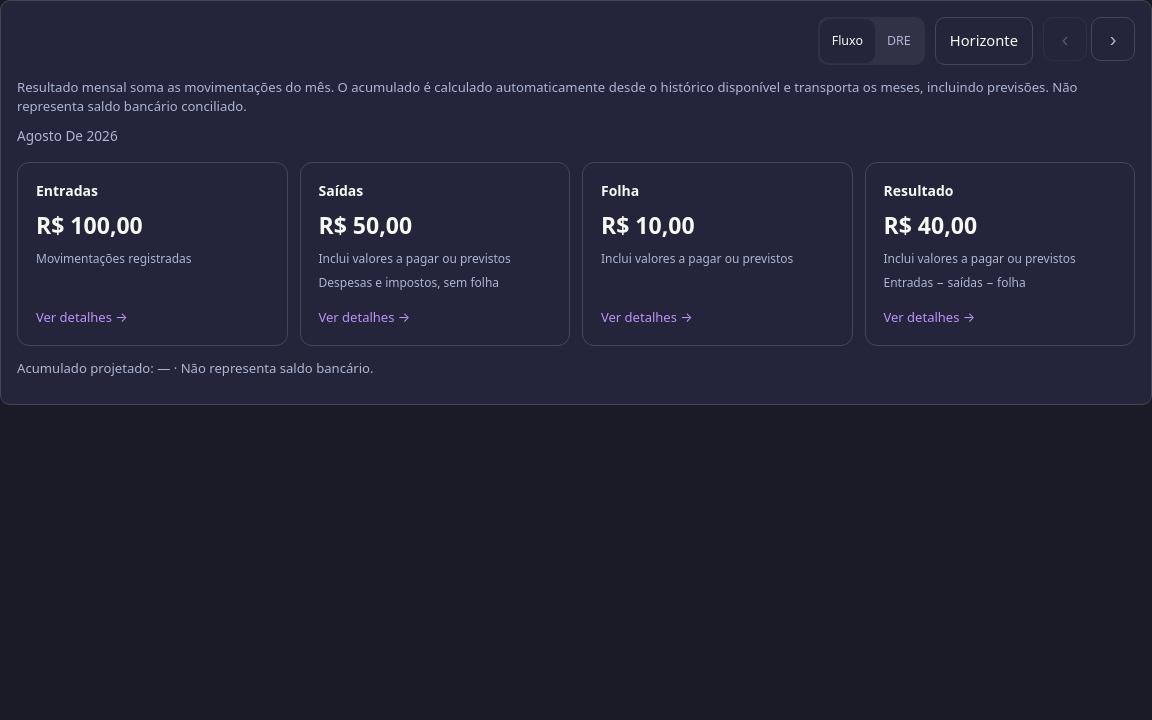
Test: resultado detalha composição e folha sem dia permanece acessível
Step 1. Click the button with aria-label "Ver resultado" → (1000,254), box [864,162,1135,346]
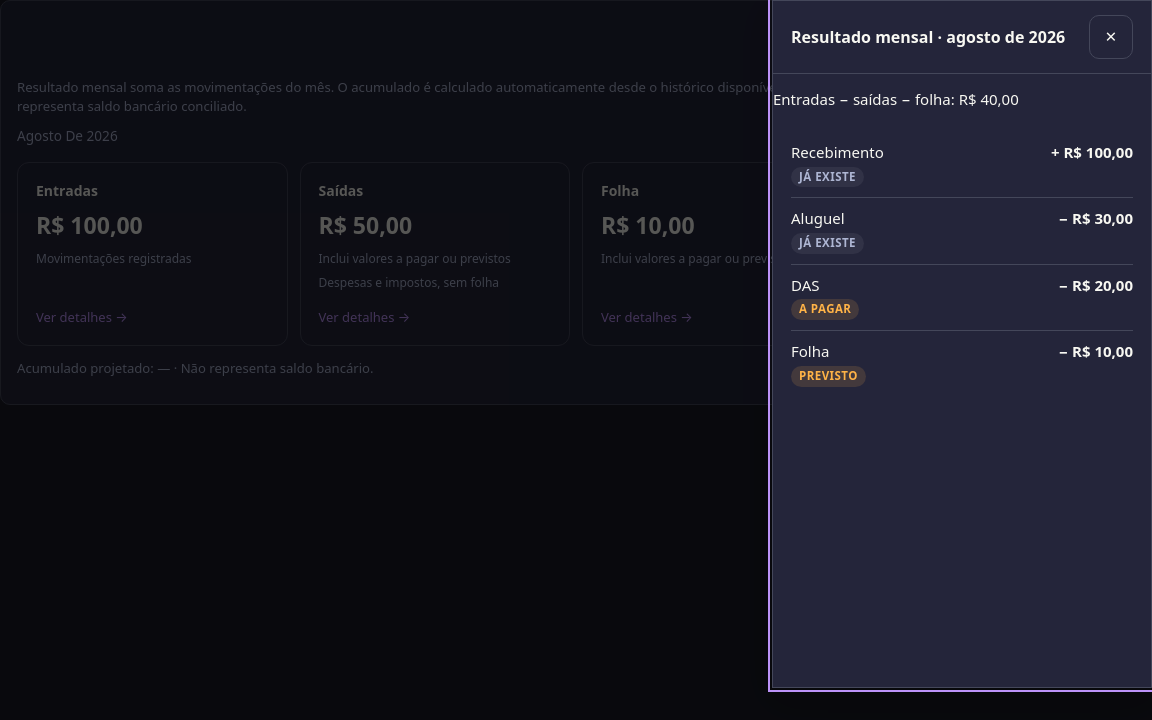
Check: the dialog shows "40,00", box [959,89,1019,109]
Check: the dialog shows "folha", box [791,341,829,361]
